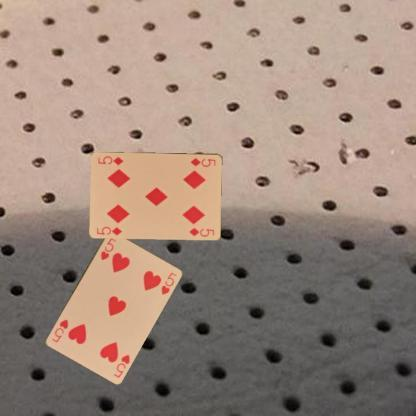5d: (188, 155, 217, 167), (94, 224, 123, 236)
5h: (98, 235, 118, 261), (111, 352, 131, 378)
